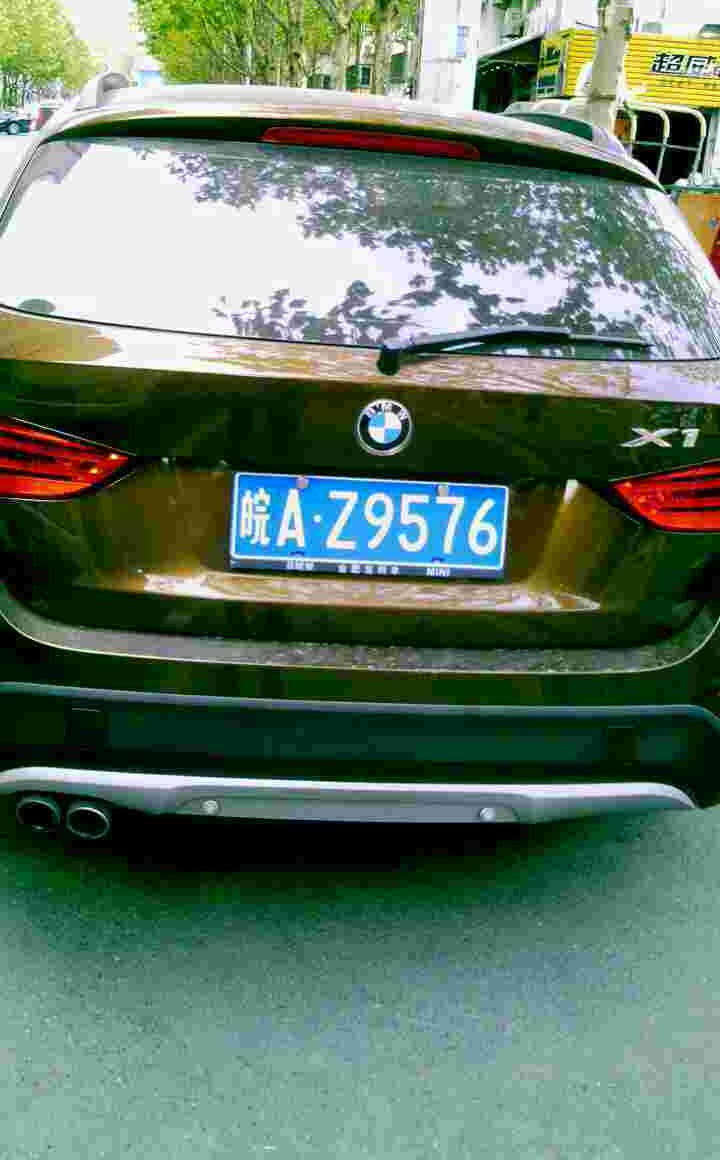license_plate: (232, 483, 503, 570)
